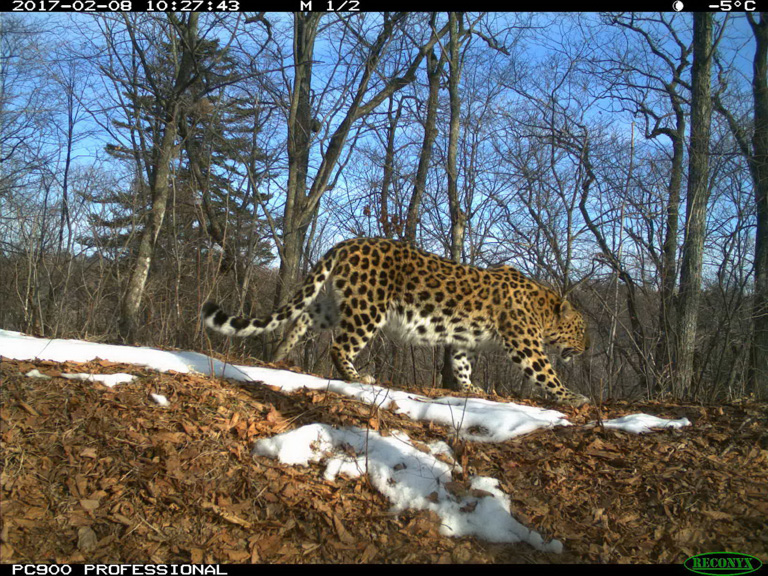amur_leopard: (203, 212, 600, 411)
